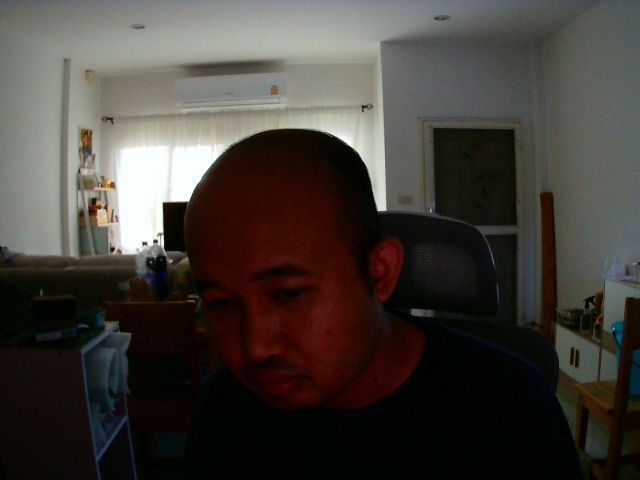face: (177, 124, 402, 423)
